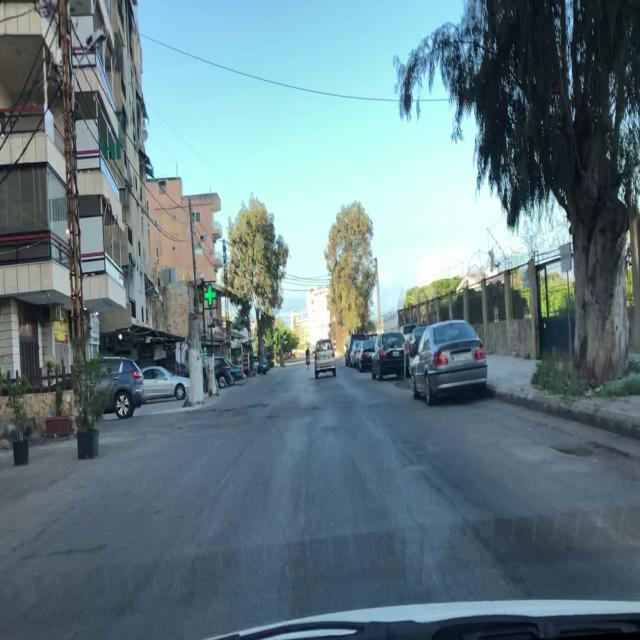Pothole: (247, 400, 269, 410), (300, 405, 321, 412), (204, 408, 232, 412), (267, 413, 279, 420)
